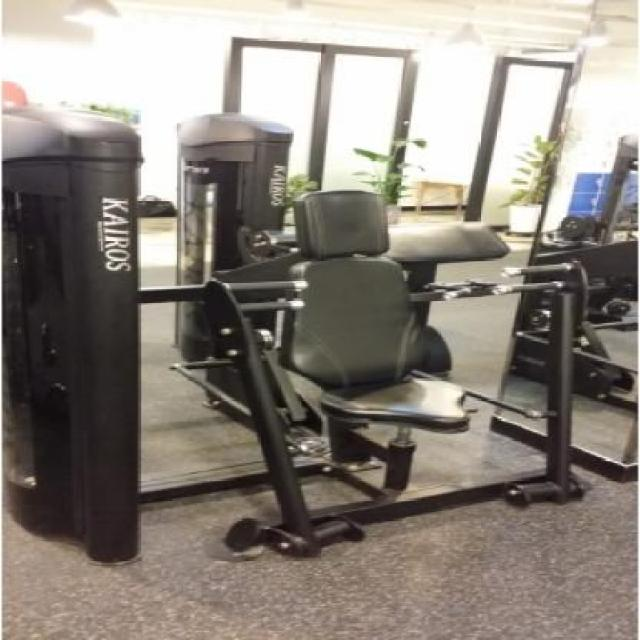Chest Press machine: (9, 100, 640, 578)
